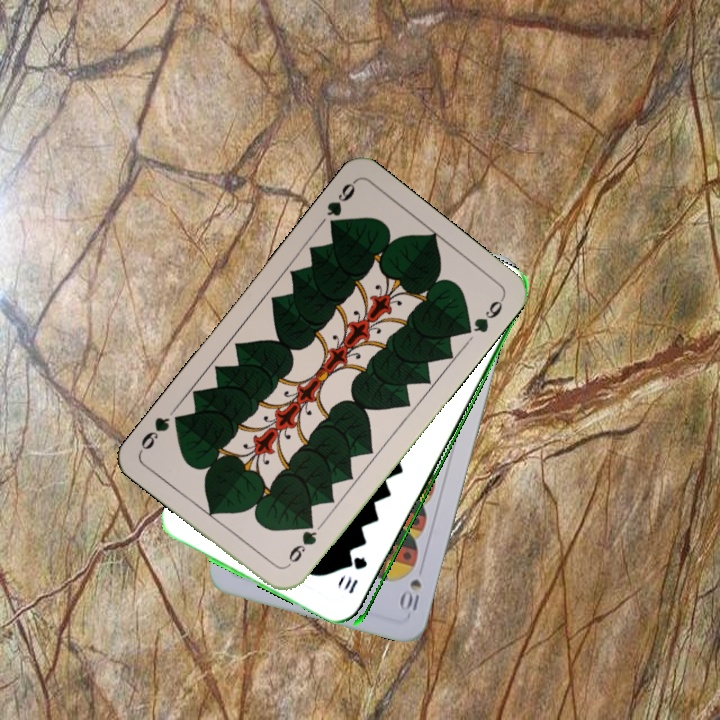G10: (340, 552, 370, 597)
G9: (322, 177, 358, 234), (282, 517, 320, 570)
S10: (397, 574, 424, 614)
